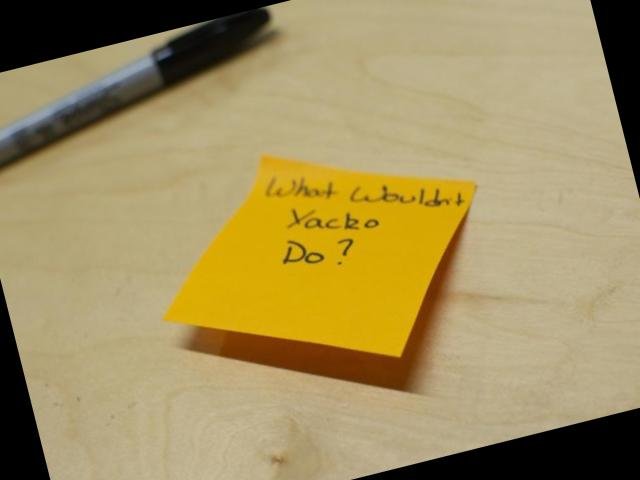PEN: (0, 4, 295, 173)
